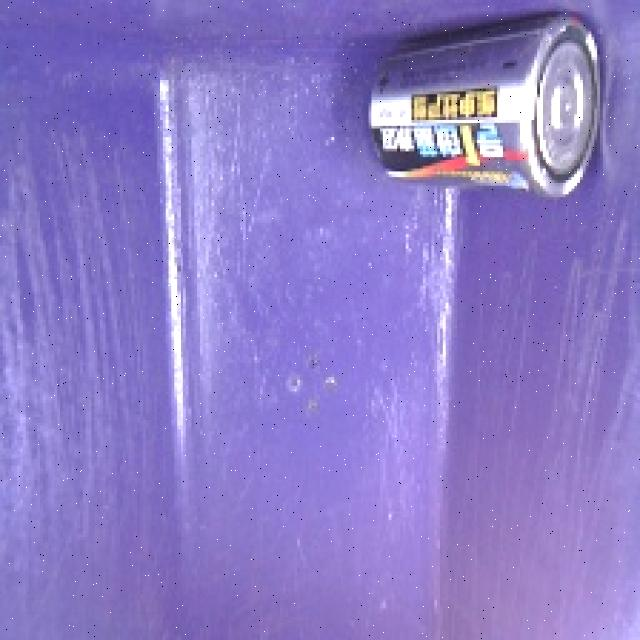battery: (357, 11, 611, 205)
